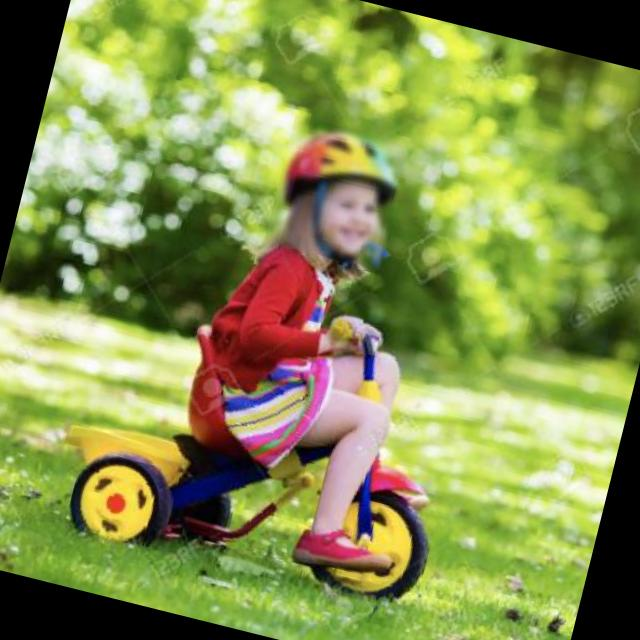With Helmet: (264, 114, 412, 271)
